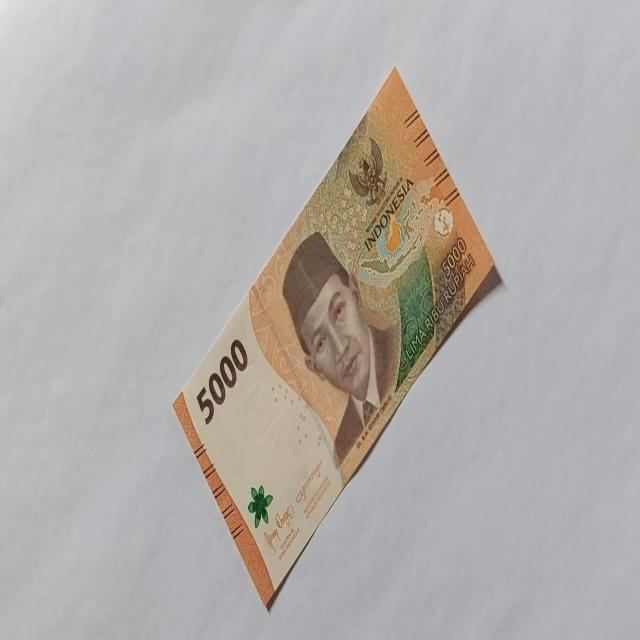lima ribu rupiah: (172, 68, 504, 613), (280, 228, 402, 471)
